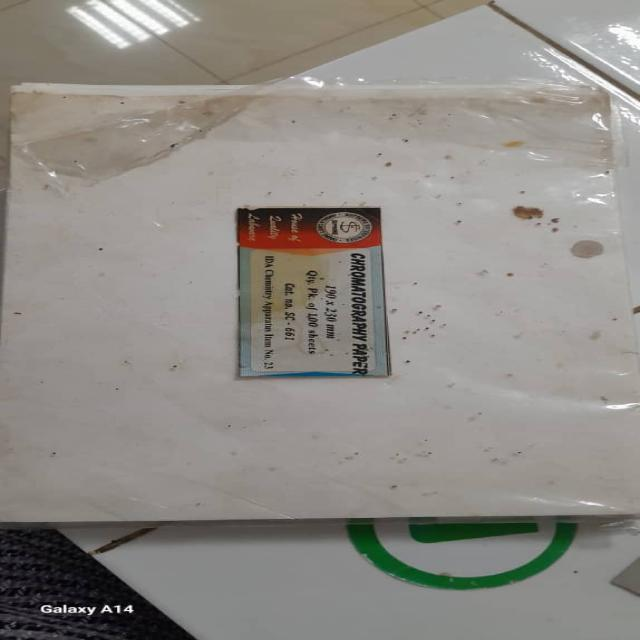Paper Chromatography: (5, 87, 631, 525)
